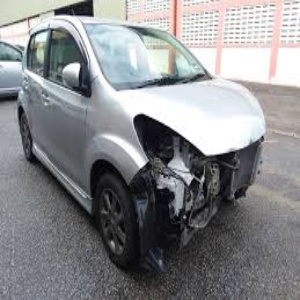bumper: (156, 153, 261, 234)
